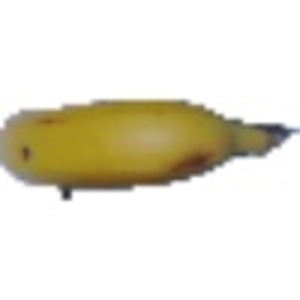banana: (2, 89, 297, 192)
